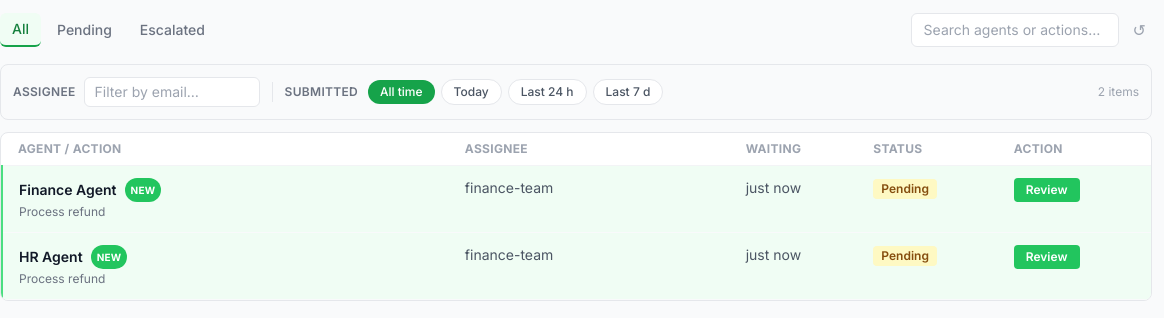
Test: DashboardClient › filters by search query against agent_name
Type "finance" into the field with placeholder "Search agents or actions…" at x=1015, y=30, box [911,13,1119,47]
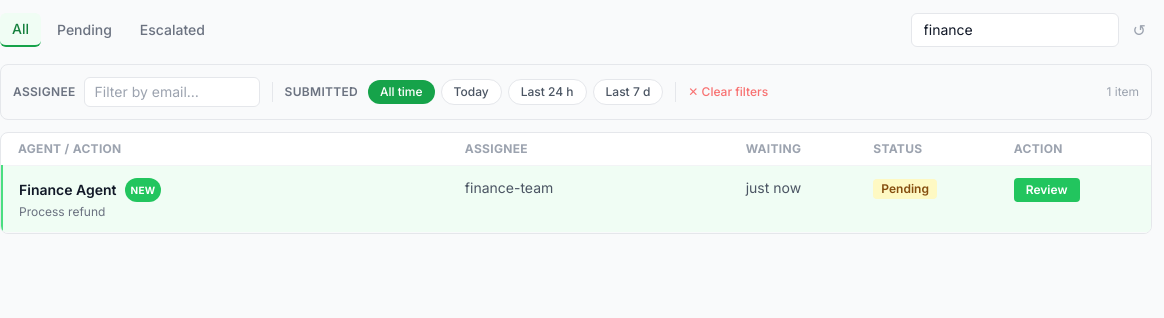
expect the text "Finance Agent" is shown: met, box [19,180,116,200]
expect the text "HR Agent" is gone: met
